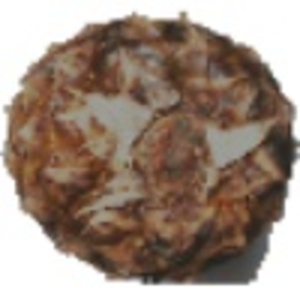abacaxi: (7, 9, 290, 275)
